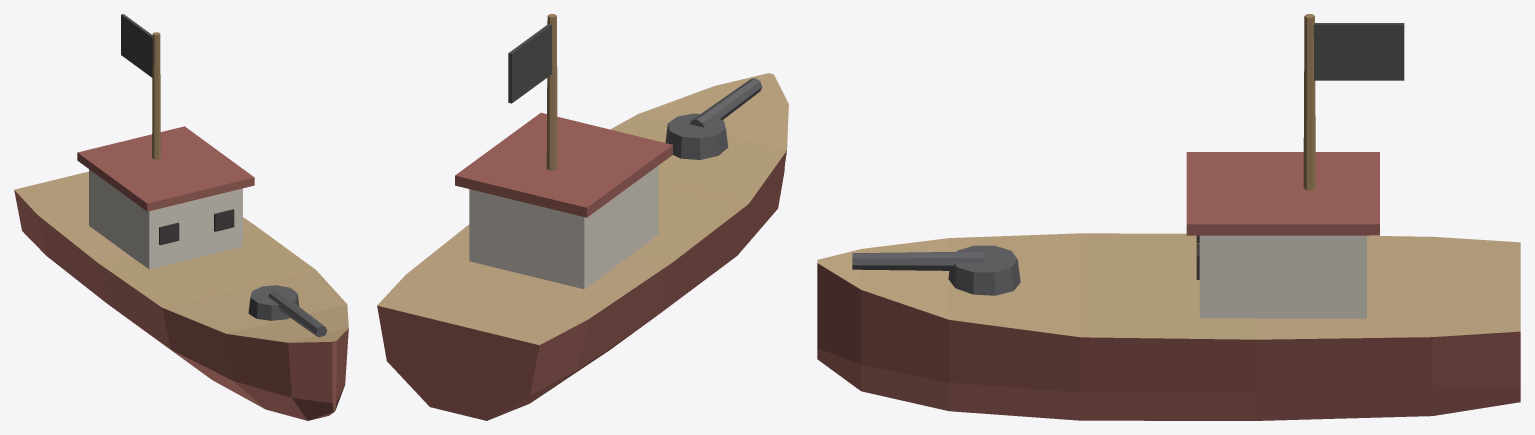
Rendered from DreadholdBoat.fbx.
3 views of the same model, side by side, from view 1: azimuth 30°, elevation 25°; view 2: azimuth 150°, elevation 25°; view 3: azimuth 270°, elevation 25° (orthographic). The views are drawn at different scales.
Visible parts, largest first — view 1: Boat; view 2: Boat; view 3: Boat.
Boxes of the visible parts, left/top/right/bottom form: Boat: left=14, top=14, right=348, bottom=420; Boat: left=377, top=14, right=788, bottom=420; Boat: left=817, top=14, right=1520, bottom=420.
Bounding box in the file's own units: 2.84 × 4.85 × 8.
